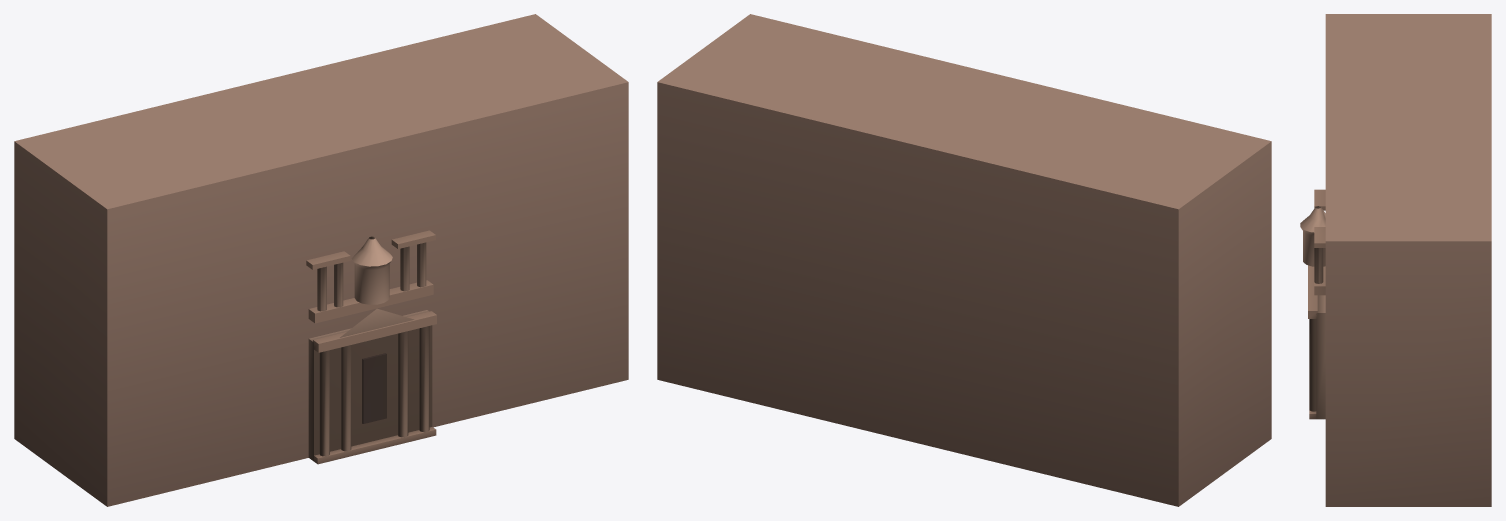
File: petra.glb
3 renders of one model, left to right at view 1: azimuth 30°, elevation 25°; view 2: azimuth 150°, elevation 25°; view 3: azimuth 270°, elevation 25°, orthographic. The views are drawn at different scales.
Parts seen in each view (by area): view 1: lack; view 2: lack; view 3: lack.
Boxes of the visible parts, x1=… form: lack: x1=14, y1=14, x2=628, y2=506; lack: x1=657, y1=14, x2=1271, y2=506; lack: x1=1300, y1=14, x2=1491, y2=506.
Size of the model in its own units: 110 by 60 by 39.2.
